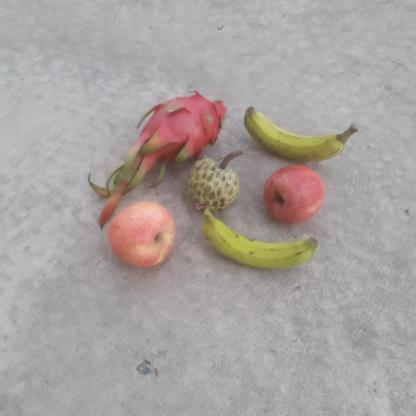annona: (186, 157, 238, 212)
apple: (110, 202, 175, 271), (264, 164, 327, 221)
banana: (199, 209, 318, 267), (242, 101, 350, 164), (148, 90, 230, 162)
